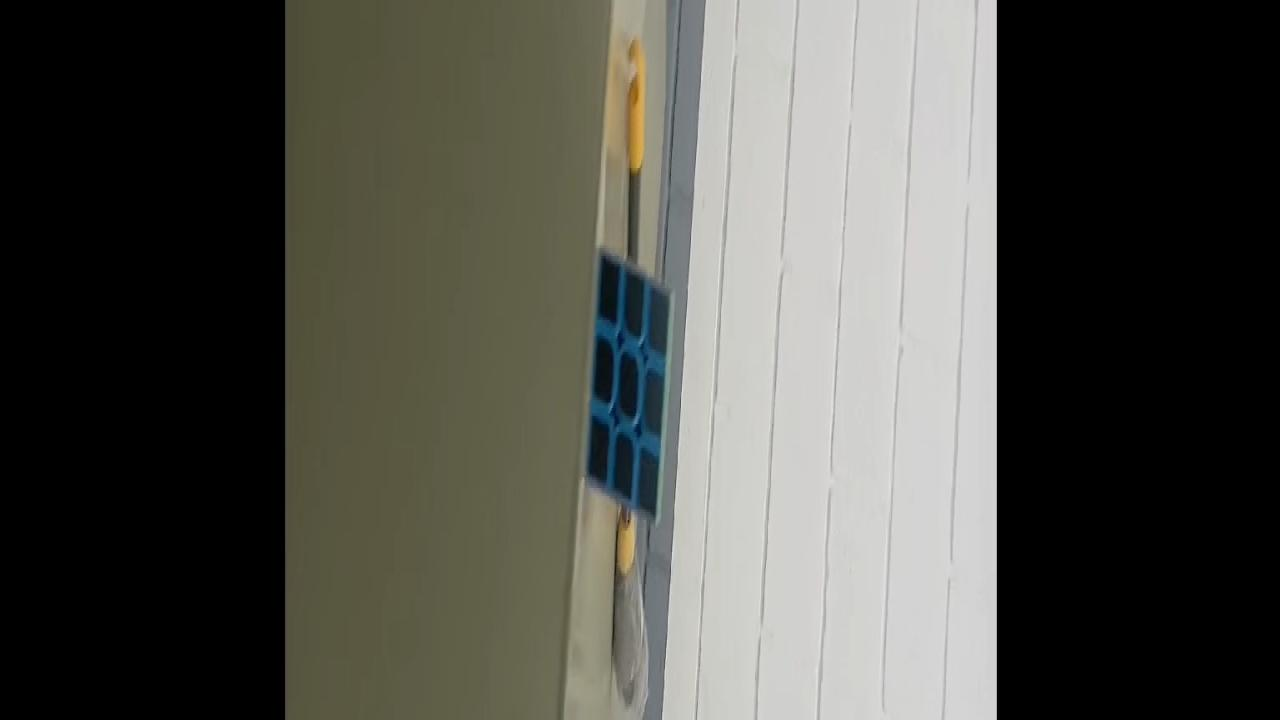Cube: (584, 243, 676, 528)
